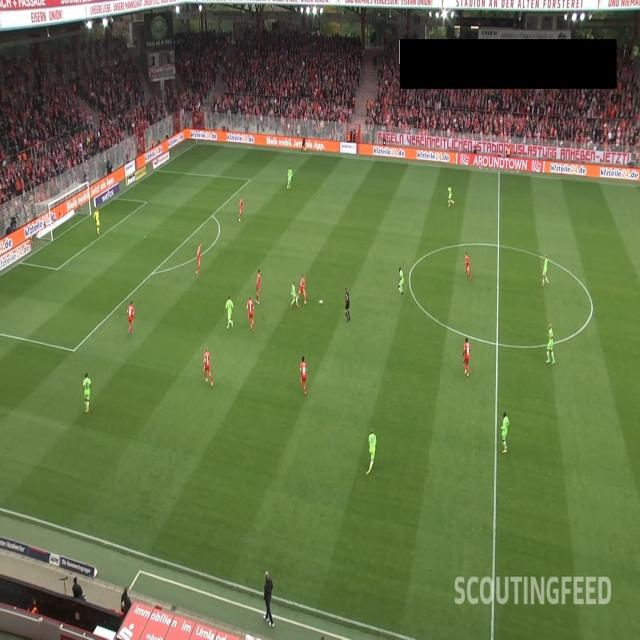ball: (318, 298, 324, 306)
